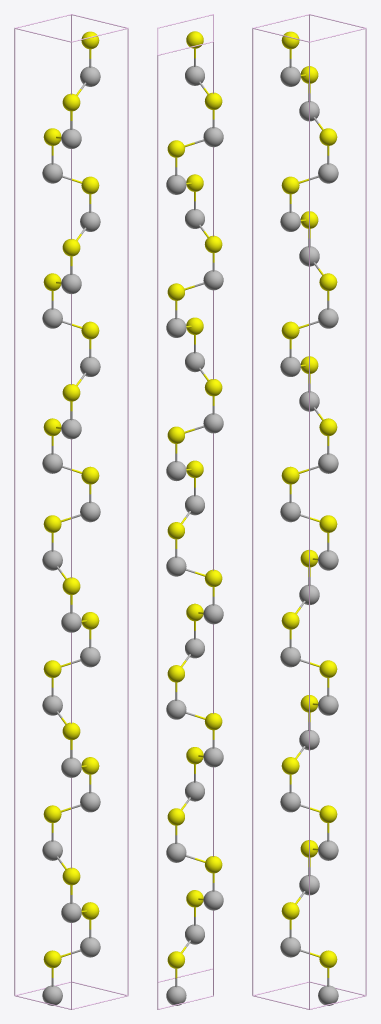
The model's file is ZnS_wurtzite.glb.
3 views of the same model, side by side, from view 1: azimuth 90°, elevation 25°; view 2: azimuth 150°, elevation 25°; view 3: azimuth 270°, elevation 25° (orthographic).
Visible parts, largest first — view 1: 1-5, 2-6, 0-3, Zn16, Zn03, Zn08, Zn09, Zn01, Zn12, Zn14, Zn05, Zn06 (+11 smaller); view 2: 2-6, 0-3, Zn08, Zn06, Zn11, Zn13, Zn02, Zn19, Zn12, Zn15, Zn05, Zn14 (+30 smaller); view 3: 1-5, 2-6, 4-7, Zn16, Zn03, Zn09, Zn04, Zn12, Zn17, Zn02, Zn14, Zn18 (+11 smaller).
Part boxes in pixels (bbox=[...]): 1-5: bbox=[127, 28, 128, 995]; 2-6: bbox=[14, 28, 15, 995]; 0-3: bbox=[71, 42, 71, 1009]; Zn16: bbox=[80, 501, 100, 522]; Zn03: bbox=[80, 792, 100, 812]; Zn08: bbox=[61, 902, 81, 922]; Zn09: bbox=[80, 647, 100, 667]; Zn01: bbox=[61, 612, 81, 632]; Zn12: bbox=[42, 453, 62, 473]; Zn14: bbox=[42, 163, 62, 183]; Zn05: bbox=[42, 308, 62, 328]; Zn06: bbox=[61, 419, 81, 439]; 2-6: bbox=[157, 55, 158, 1009]; 0-3: bbox=[213, 42, 213, 995]; Zn08: bbox=[203, 890, 223, 910]; Zn06: bbox=[203, 413, 223, 433]; Zn11: bbox=[203, 127, 223, 147]; Zn13: bbox=[203, 747, 223, 767]; Zn02: bbox=[166, 556, 186, 576]; Zn19: bbox=[166, 699, 186, 719]; Zn12: bbox=[166, 461, 186, 481]; Zn15: bbox=[203, 270, 223, 290]; Zn05: bbox=[166, 318, 186, 337]; Zn14: bbox=[166, 174, 186, 194]; 1-5: bbox=[252, 28, 253, 995]; 2-6: bbox=[365, 28, 366, 995]; 4-7: bbox=[309, 42, 309, 1009]; Zn16: bbox=[280, 501, 300, 522]; Zn03: bbox=[280, 792, 300, 812]; Zn09: bbox=[280, 647, 300, 667]; Zn04: bbox=[280, 356, 300, 376]; Zn12: bbox=[318, 453, 338, 473]; Zn17: bbox=[318, 840, 338, 860]; Zn02: bbox=[318, 550, 338, 570]; Zn14: bbox=[318, 163, 338, 183]; Zn18: bbox=[280, 211, 300, 231].
Bounding box in the file's own units: 4.44 × 62.89 × 6.66.
